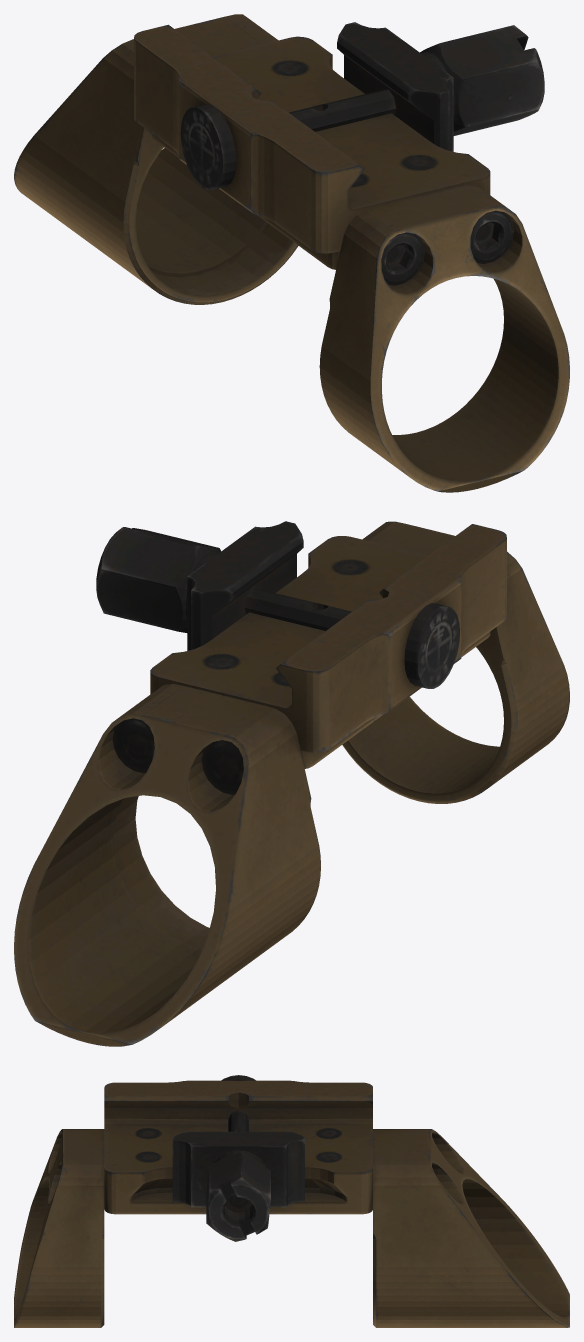
3 views of the same model, one above another, from view 1: azimuth 30°, elevation 25°; view 2: azimuth 150°, elevation 25°; view 3: azimuth 270°, elevation 25° (orthographic). The views are drawn at different scales.
Parts seen in each view (by area): view 1: TW_61714b2467085e45ef140b2c_PZ_Import; view 2: TW_61714b2467085e45ef140b2c_PZ_Import; view 3: TW_61714b2467085e45ef140b2c_PZ_Import.
Part boxes in pixels (x1,y1,x2,y2): TW_61714b2467085e45ef140b2c_PZ_Import: [14, 14, 569, 492]; TW_61714b2467085e45ef140b2c_PZ_Import: [14, 521, 569, 1046]; TW_61714b2467085e45ef140b2c_PZ_Import: [14, 1075, 569, 1327].
Bounding box in the file's own units: 0.0291 × 0.0623 × 0.0259.
Materials: 1 (1 with a texture image).
